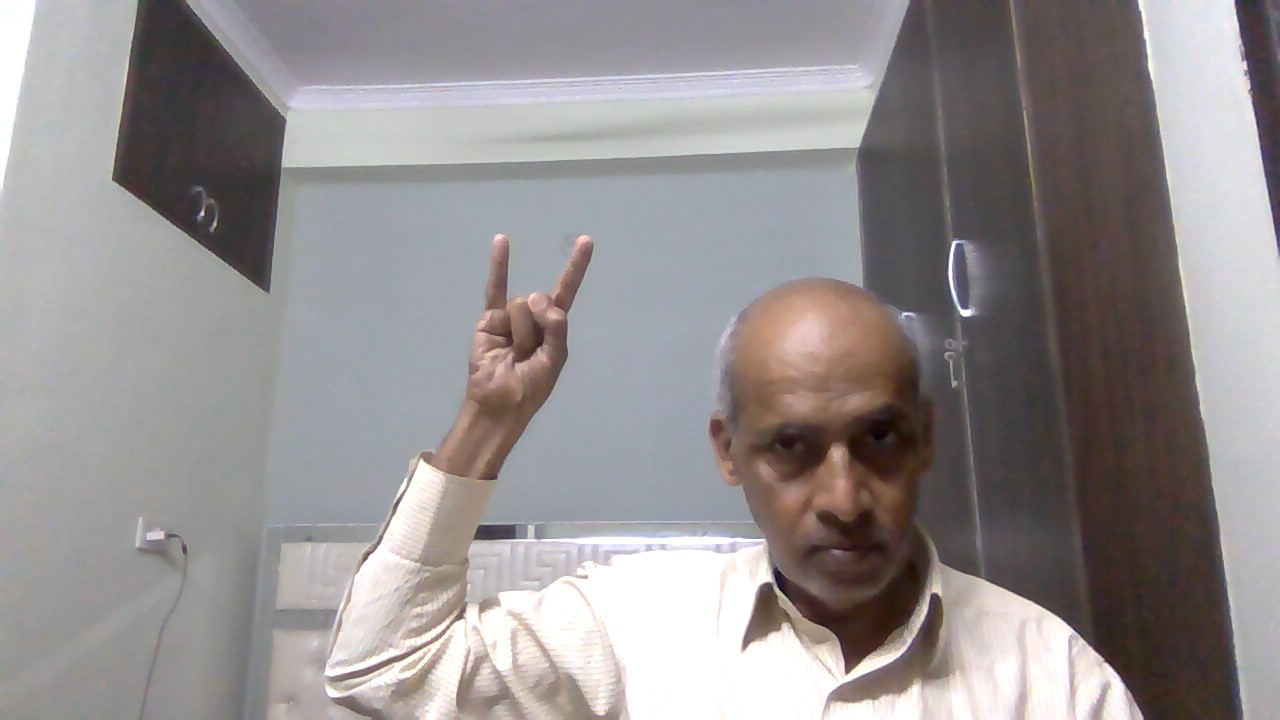Select All: (465, 220, 603, 456)
